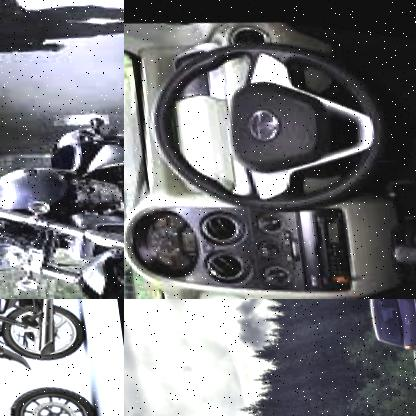bike: (0, 59, 124, 299), (0, 355, 123, 416), (0, 299, 84, 376)
car: (124, 0, 416, 299), (360, 299, 416, 355)
